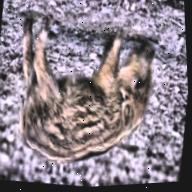boar: (3, 7, 167, 180)
